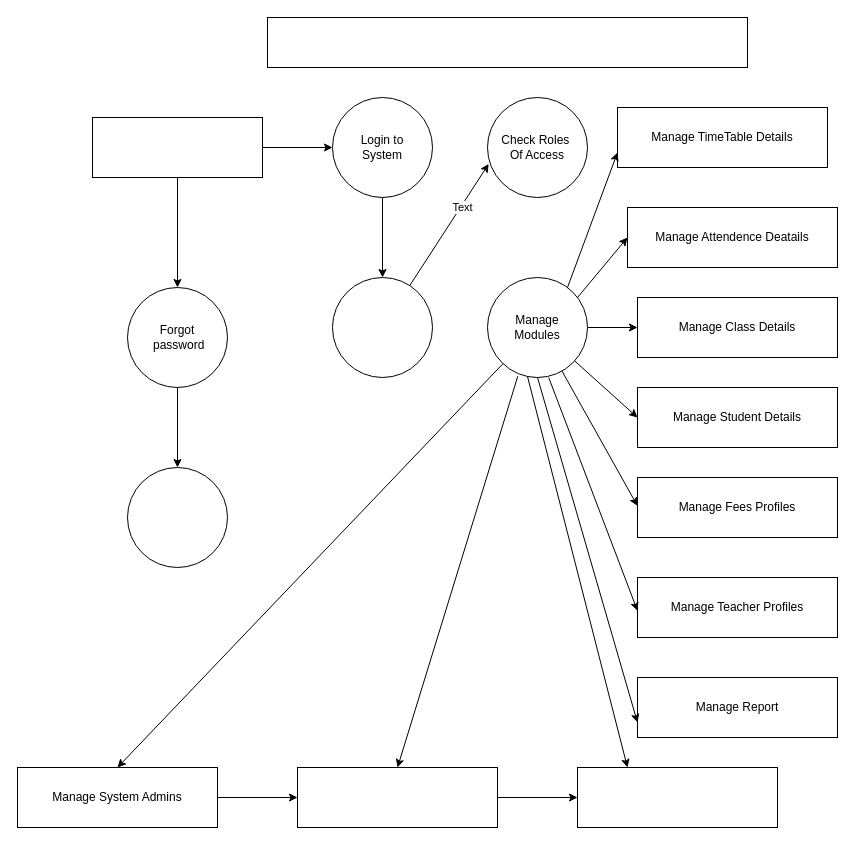
Image size: 855x845. Some labels were removed from this diagram. The shapes that lost their labels are listed below. From the top down, each one's box as (x1, y1, x2, y2) in pixels, then its label:
(266, 16, 748, 68): Student Information System
(92, 116, 262, 178): Admin
(332, 276, 432, 378): Check Credentials
(126, 466, 228, 568): Send Email to User
(296, 766, 498, 828): Manage Roles Of User
(576, 766, 778, 828): Manage User Permission
